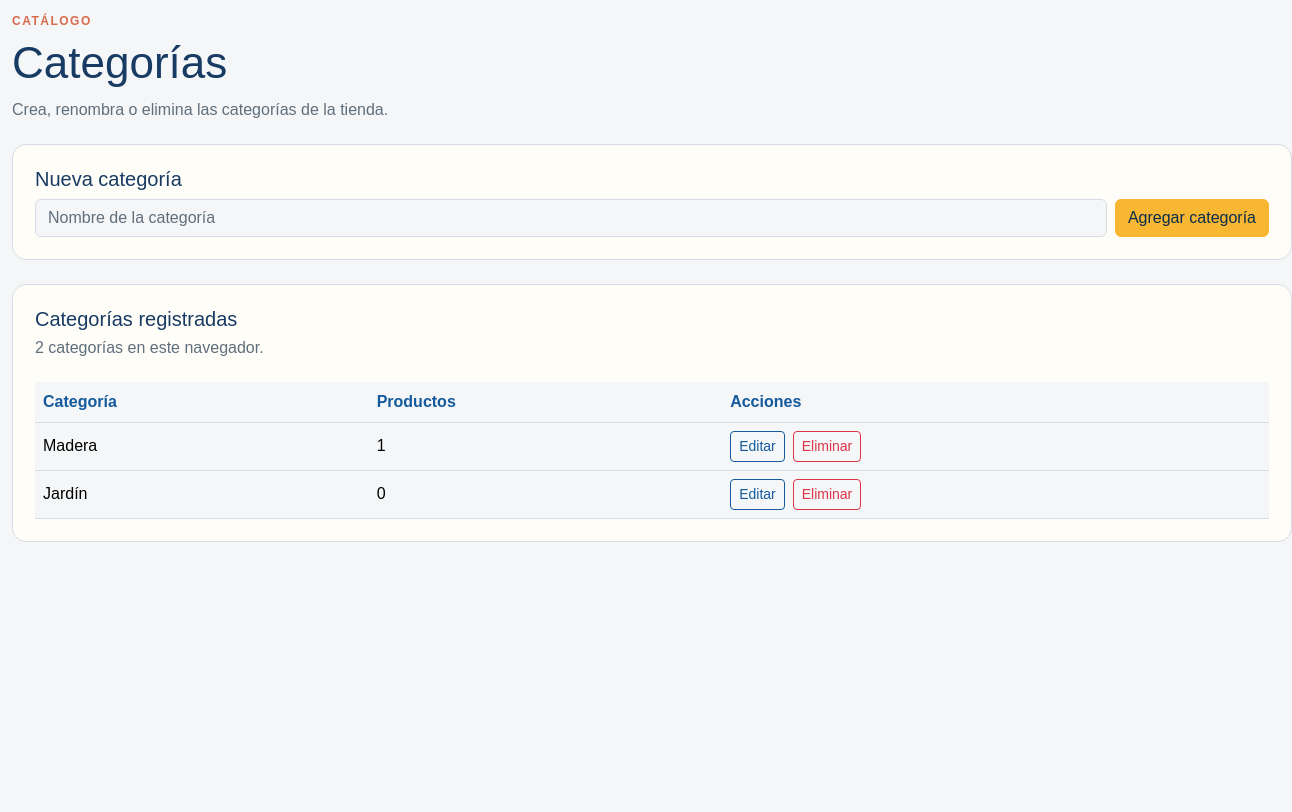
Scenario: AdminCategoriasContainer › rechaza una categoría repetida
Type "madera" into the field named "Nombre de la nueva categoría". click: (571, 218)
box: [35,199,1107,237]
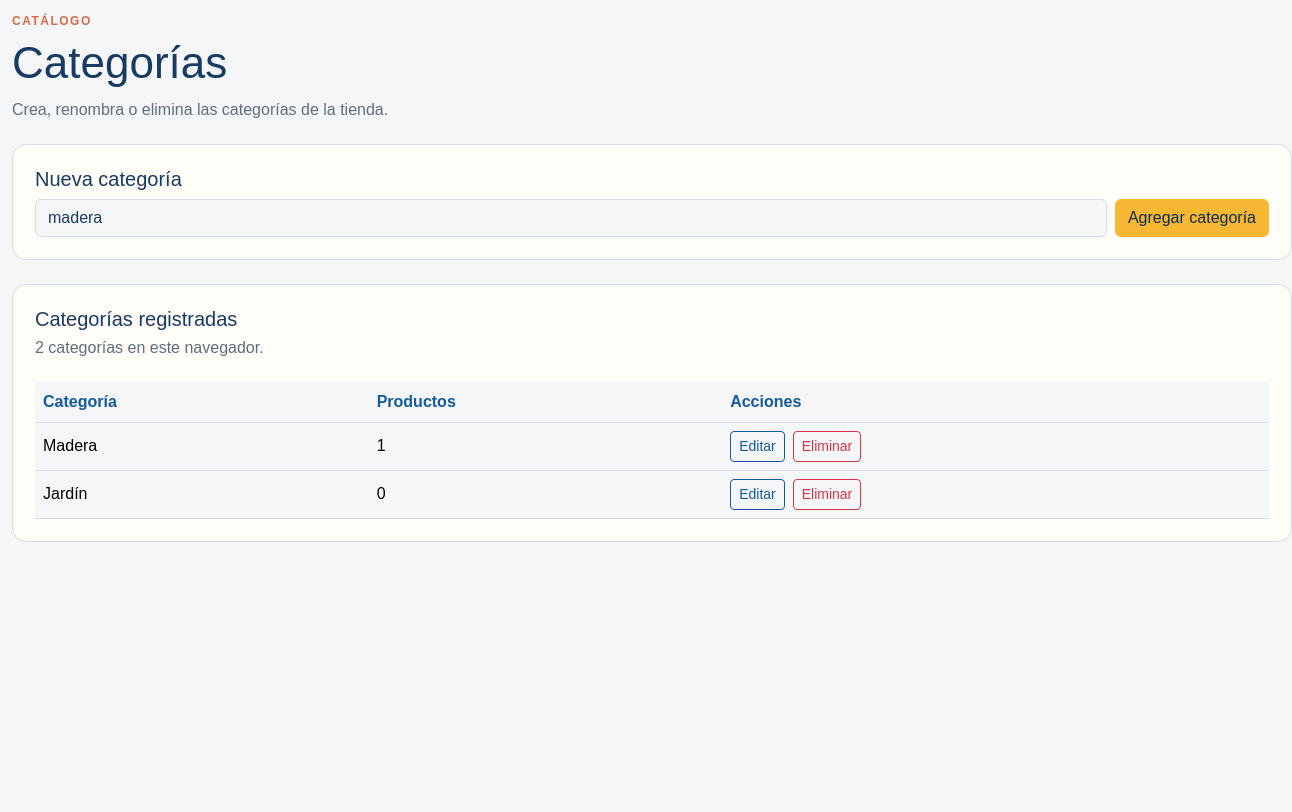
Click the button "Agregar categoría". click: (1192, 218)
box: [1115,199,1269,237]
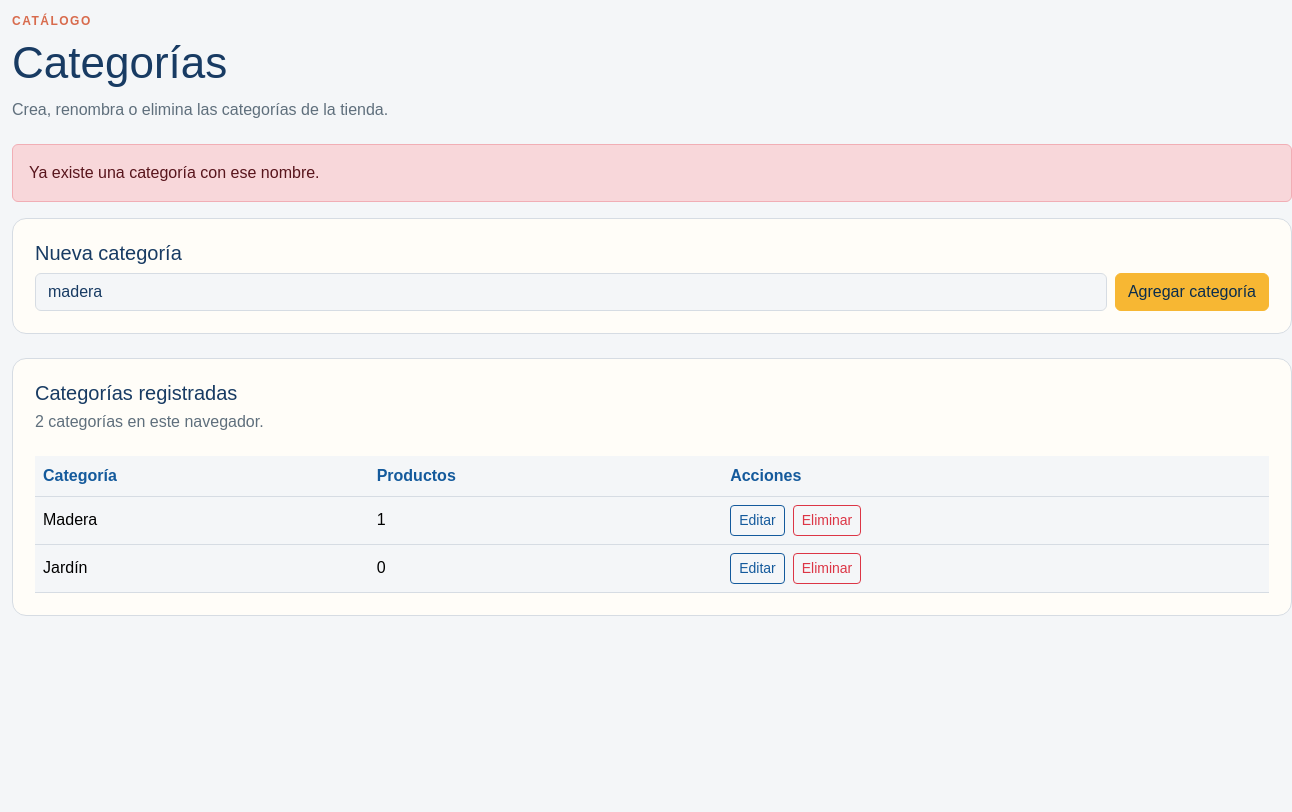
Check: the text "Ya existe una categoría con ese nombre." is shown, box [12,144,1291,202]
